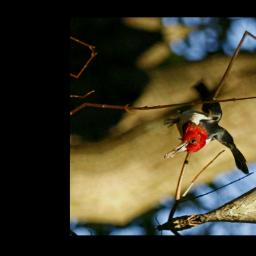Woodpecker: (142, 74, 256, 196)
